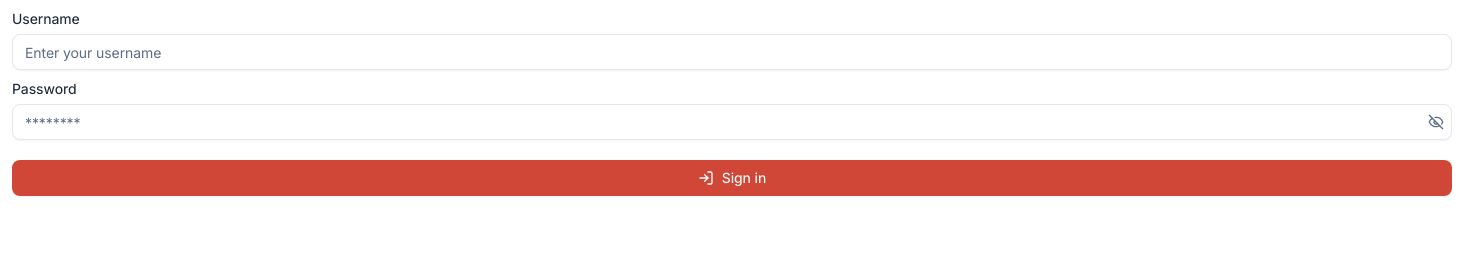
Scenario: UserAuthForm › shows the forced change-password form when the admin requires it
The image size is (1464, 269).
Type "dwicky" into the field labelled "Username" at (732, 52), box [12, 34, 1452, 70]
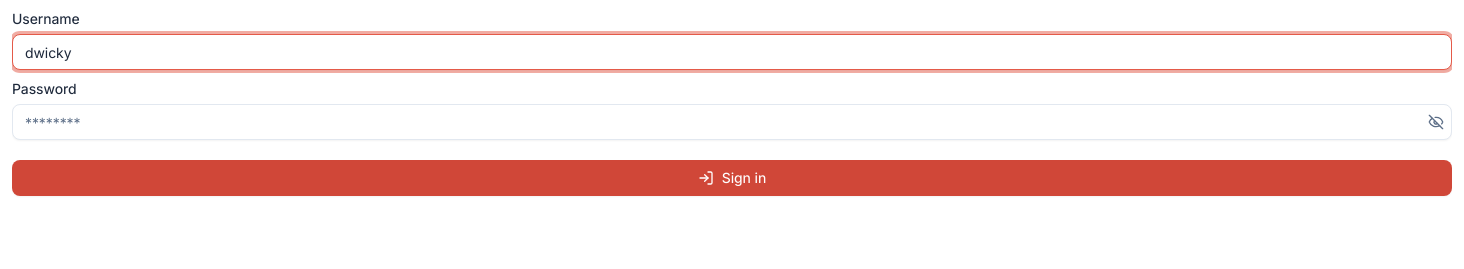
Type "generated-pass" into the password field labelled "Password" at (732, 122), box [12, 104, 1452, 140]
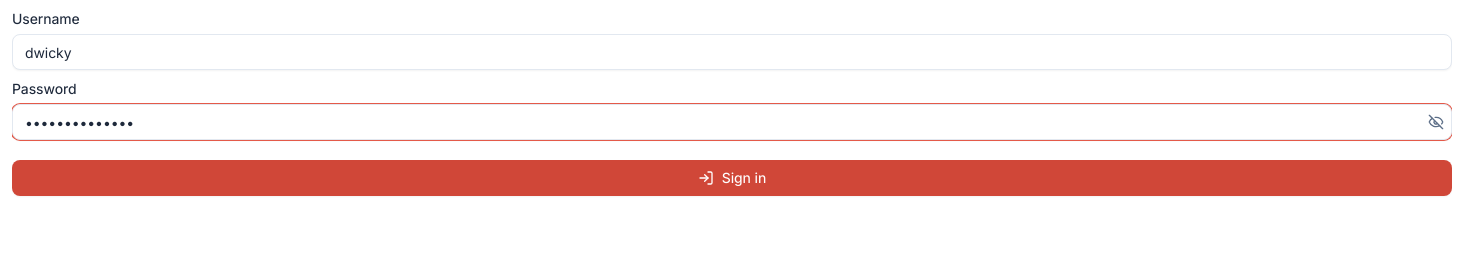
Click the button "Sign in" at (732, 178), box [12, 160, 1452, 196]
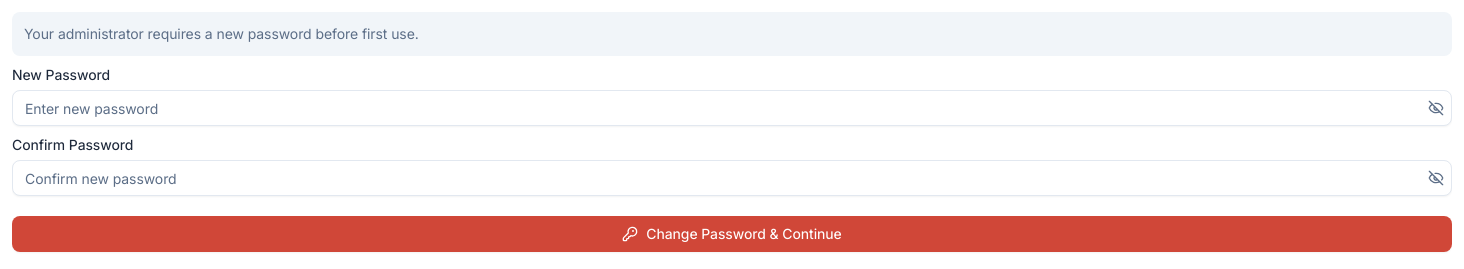
Check: the button "Change Password & Continue" is shown, box [12, 216, 1452, 252]
